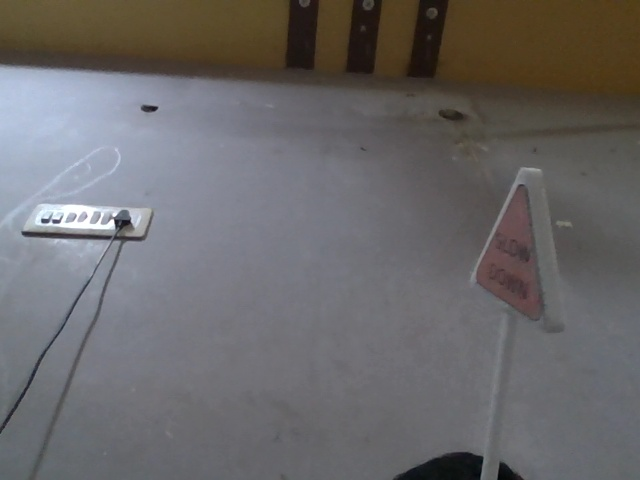slowdown: (418, 174, 578, 344)
